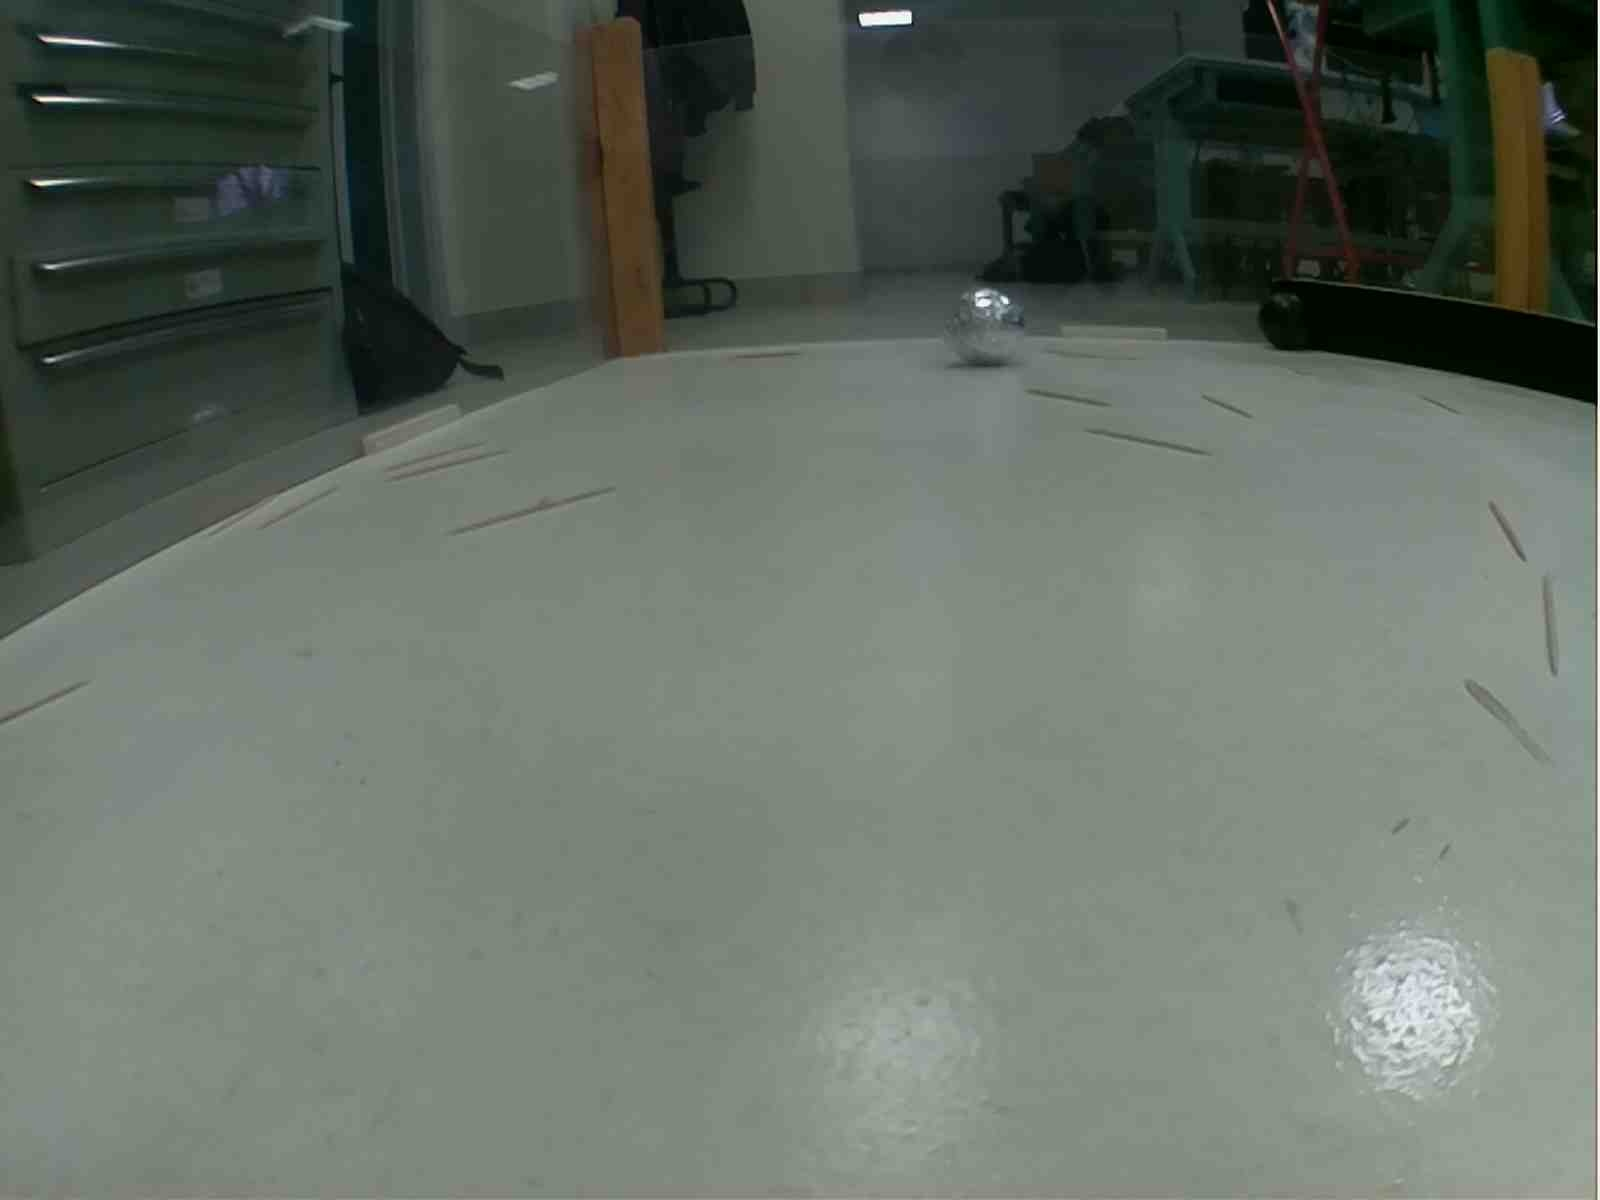bianca: (946, 287, 1027, 368)
nera: (1254, 292, 1319, 352)
